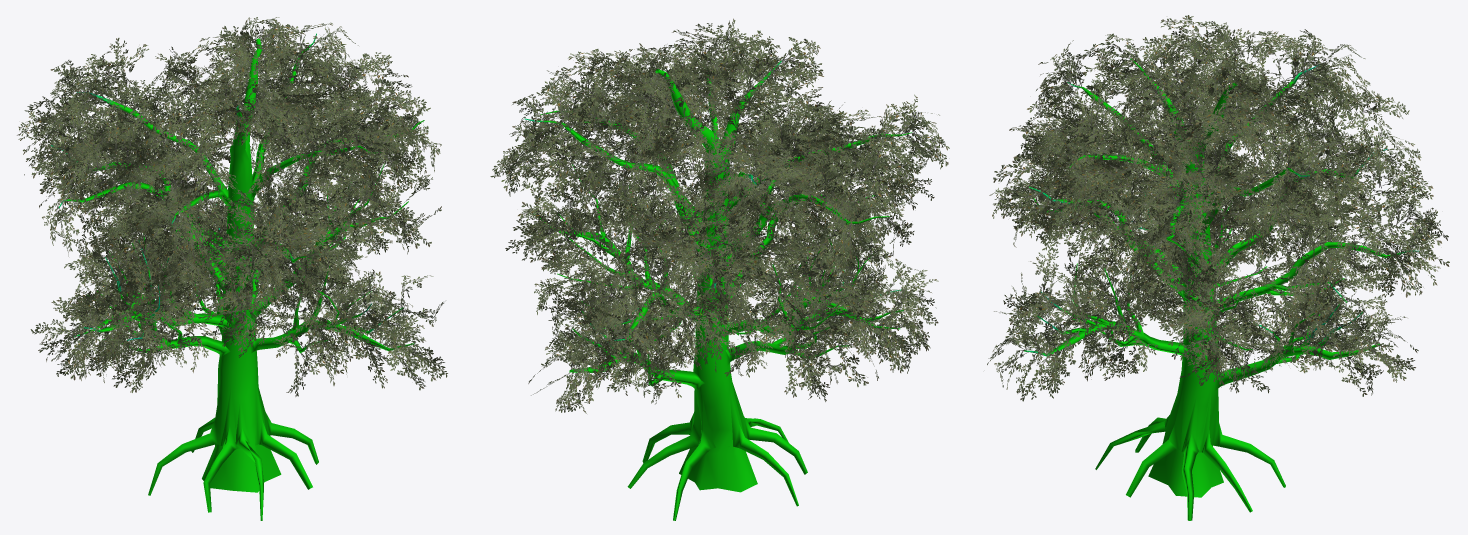
File: SM_Oak_.fbx
The picture shows the model from 3 angles, left to right: view 1: azimuth 30°, elevation 25°; view 2: azimuth 150°, elevation 25°; view 3: azimuth 270°, elevation 25°; orthographic projection.
Visible parts, largest first — view 1: Oak01_LOD1; view 2: Oak01_LOD1; view 3: Oak01_LOD1.
Boxes of the visible parts, x1,y1,x2,y2 form: Oak01_LOD1: [17, 17, 447, 520]; Oak01_LOD1: [490, 18, 949, 520]; Oak01_LOD1: [987, 15, 1449, 520].
Bounding box in the file's own units: 2320 × 2356 × 2423.
